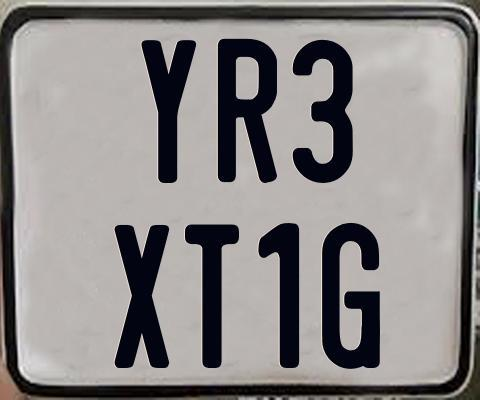1: (255, 221, 298, 372)
3: (290, 39, 350, 184)
G: (320, 223, 384, 371)
R: (218, 38, 282, 187)
T: (185, 223, 244, 369)
X: (114, 223, 174, 372)
Y: (140, 38, 198, 186)
